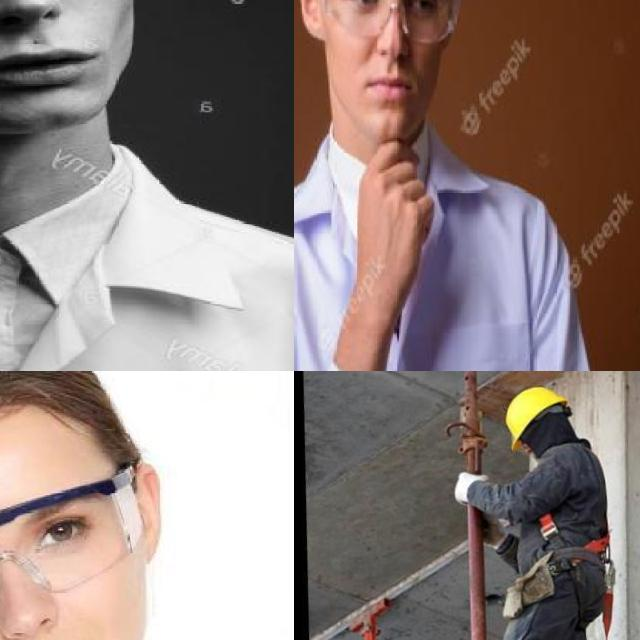Harness: (539, 513, 615, 640)
No_Ear-Protection: (295, 0, 330, 45)
face_nomask: (0, 509, 124, 640), (0, 0, 122, 104), (335, 0, 442, 118)
glasses: (0, 454, 148, 638), (309, 0, 458, 45)
hand_noglove: (352, 140, 441, 258)
head_nohelmet: (0, 371, 100, 475)
person: (294, 0, 602, 371)
